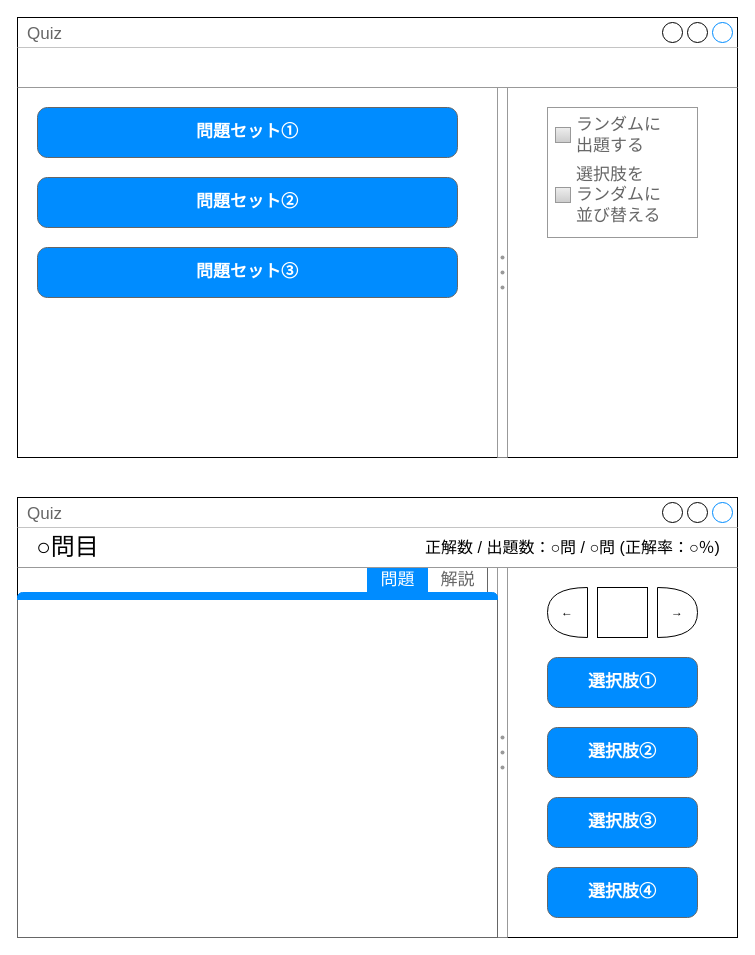
This 755x955 diagram has some shape labels left out. Here are the shapes that lost their labels. From the top down, the box of each, then its label:
(596, 586, 648, 638): HOME
(16, 566, 498, 938): 問題文
